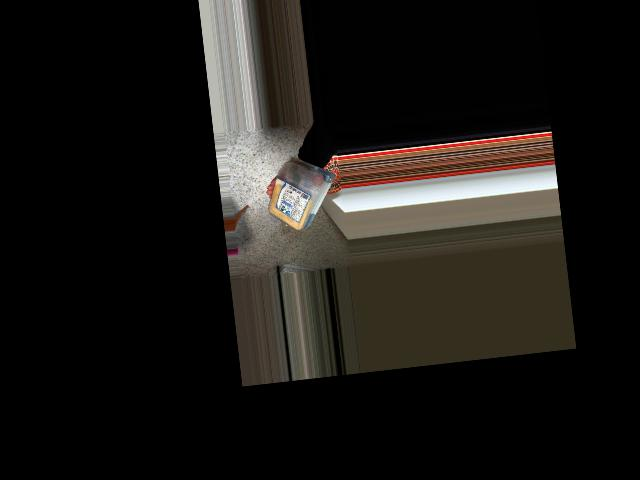cheese: (264, 160, 330, 232)
